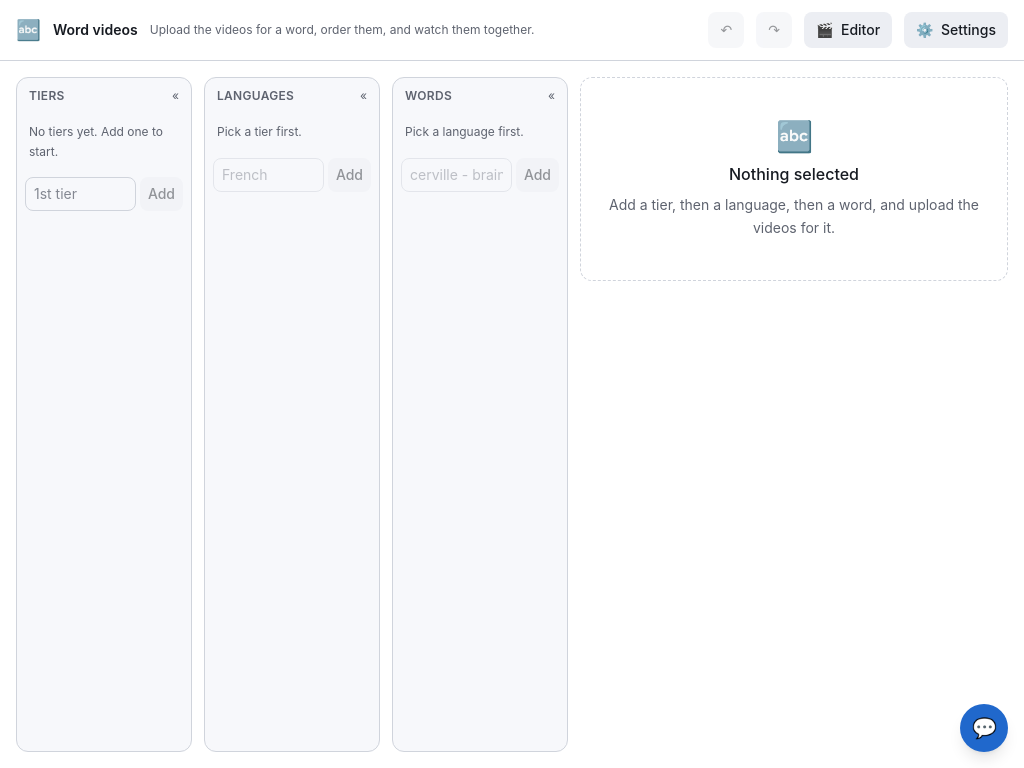
Test: settings › opens the shared dialog, without the project name field
This screenshot has width=1024, height=768.
What coordinates should you click on to do the following:
click the button "⚙️ Settings"
I would click on:
 (956, 30)
Its box is [904, 12, 1008, 48].
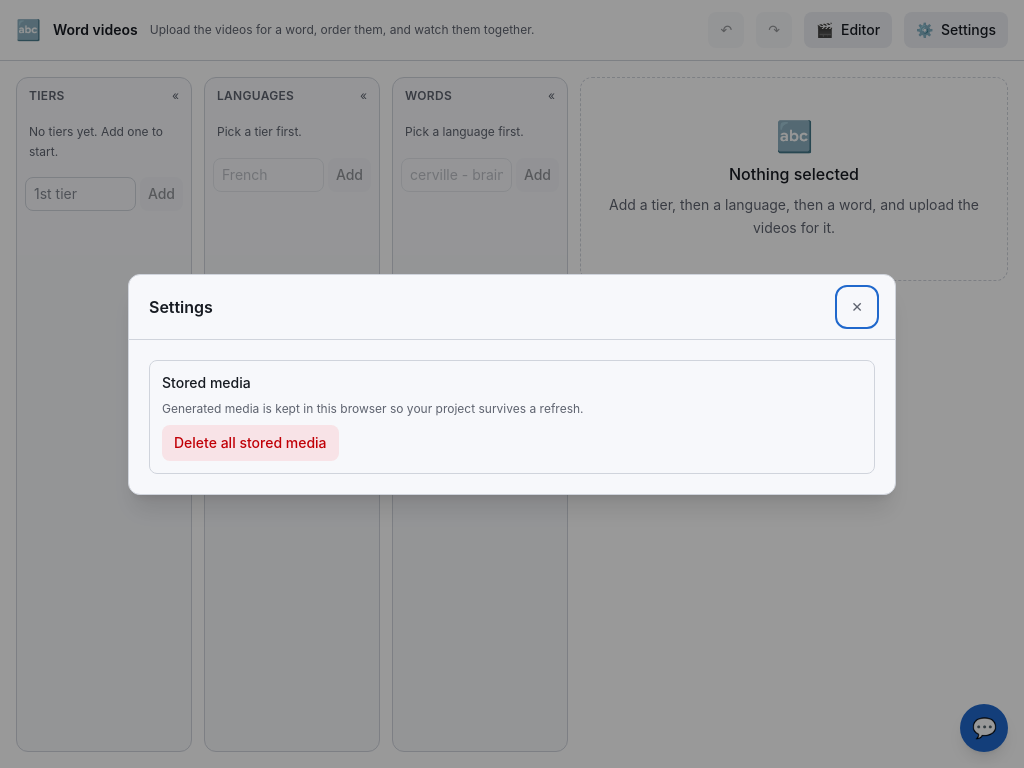
Expected: the heading "Settings" is shown, [149, 294, 213, 318]
Expected: the text "Stored media" is shown, [162, 374, 251, 390]
